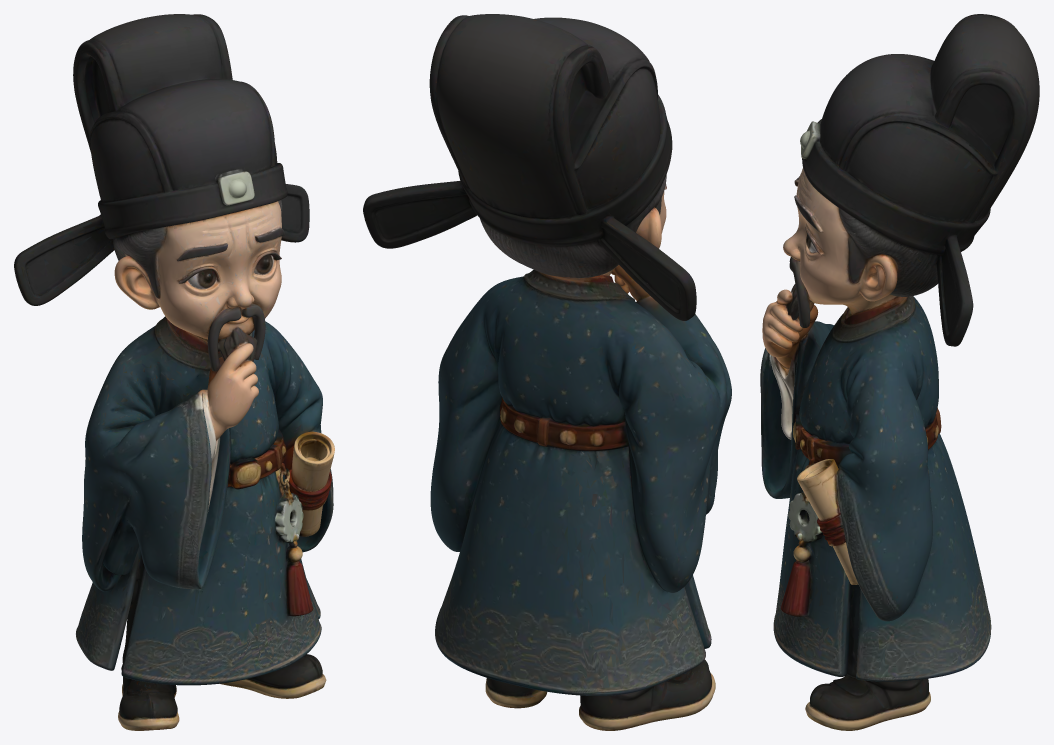
File: idle.glb
3 views of the same model, side by side, from view 1: azimuth 30°, elevation 25°; view 2: azimuth 150°, elevation 25°; view 3: azimuth 270°, elevation 25° (orthographic). The views are drawn at different scales.
Visible parts, largest first — view 1: node_0; view 2: node_0; view 3: node_0.
Part boxes in pixels (bbox=[...]): node_0: bbox=[14, 14, 334, 730]; node_0: bbox=[363, 14, 731, 730]; node_0: bbox=[760, 14, 1039, 730].
Size of the model in its own units: 0.5488 by 1.14 by 0.4422.
1 material, 1 textured.
